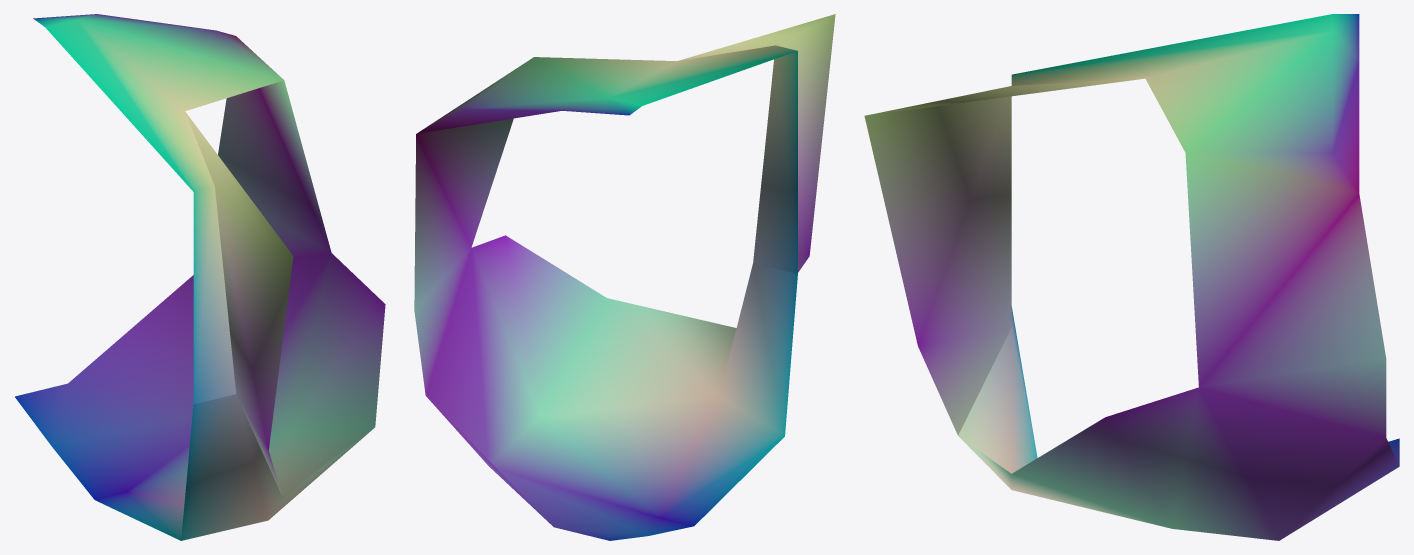
3 views of the same model, side by side, from view 1: azimuth 30°, elevation 25°; view 2: azimuth 150°, elevation 25°; view 3: azimuth 270°, elevation 25° (orthographic). The views are drawn at different scales.
Parts seen in each view (by area): view 1: part; view 2: part; view 3: part.
Part boxes in pixels (<box>): part: <box>15,14,385,540</box>; part: <box>414,14,835,540</box>; part: <box>864,14,1399,540</box>.
Size of the model in its own units: 22 by 39 by 40.
